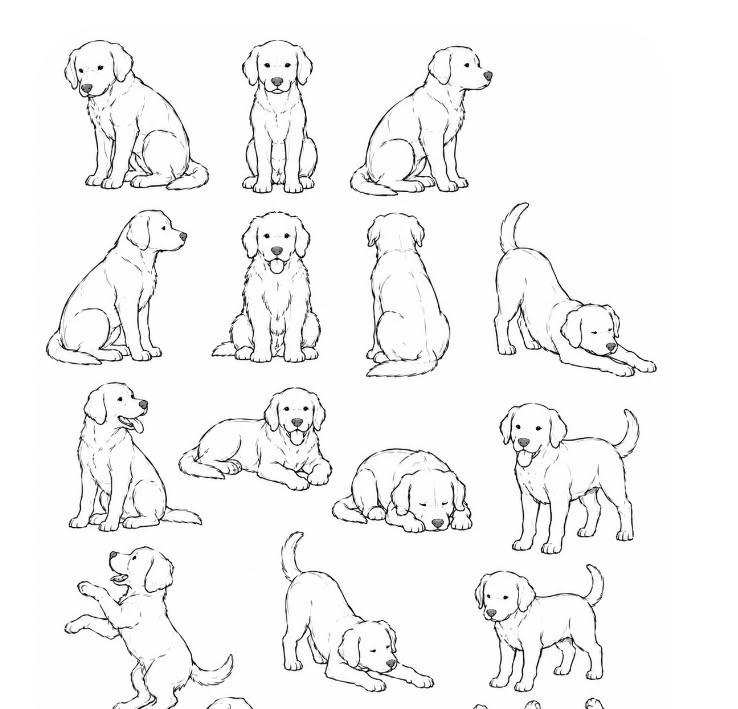puppy-dog: (490, 201, 659, 379), (65, 544, 235, 708), (276, 530, 437, 695), (45, 202, 190, 366), (498, 396, 642, 560), (59, 379, 206, 539), (61, 38, 210, 193), (351, 38, 495, 198), (172, 380, 336, 493), (471, 560, 607, 695), (355, 209, 459, 384), (209, 210, 324, 366), (332, 440, 476, 535), (242, 39, 323, 195)
